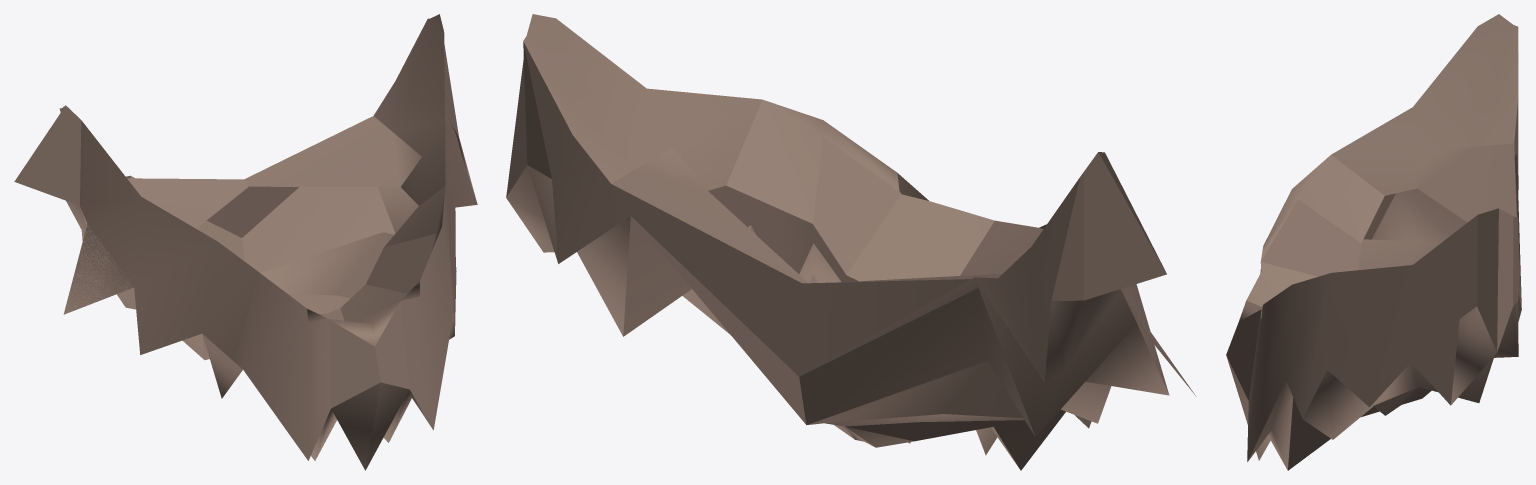
Rendered from parta.fbx.
3 views of the same model, side by side, from view 1: azimuth 30°, elevation 25°; view 2: azimuth 150°, elevation 25°; view 3: azimuth 270°, elevation 25° (orthographic). The views are drawn at different scales.
Visible parts, largest first — view 1: Parta1; view 2: Parta1; view 3: Parta1.
Part boxes in pixels (x1=…): Parta1: x1=14, y1=14, x2=477, y2=470; Parta1: x1=506, y1=14, x2=1196, y2=470; Parta1: x1=1226, y1=14, x2=1521, y2=470.
Size of the model in its own units: 0.00356 by 0.00254 by 0.00194.
